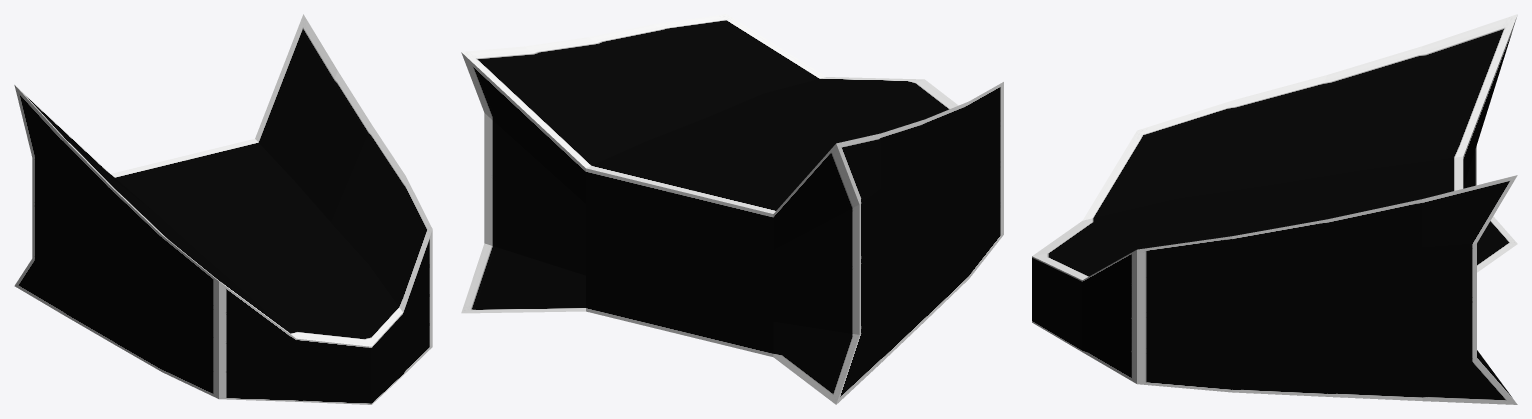
The model's file is EnemyRegen.fbx.
3 renders of one model, left to right at view 1: azimuth 30°, elevation 25°; view 2: azimuth 150°, elevation 25°; view 3: azimuth 270°, elevation 25°, orthographic. The views are drawn at different scales.
Parts seen in each view (by area): view 1: EnemyRegen; view 2: EnemyRegen; view 3: EnemyRegen.
Boxes of the visible parts, x1,y1,x2,y2 form: EnemyRegen: (14,14,432,404); EnemyRegen: (461,14,1003,404); EnemyRegen: (1032,14,1517,404).
Size of the model in its own units: 1 by 0.6668 by 1.28.
